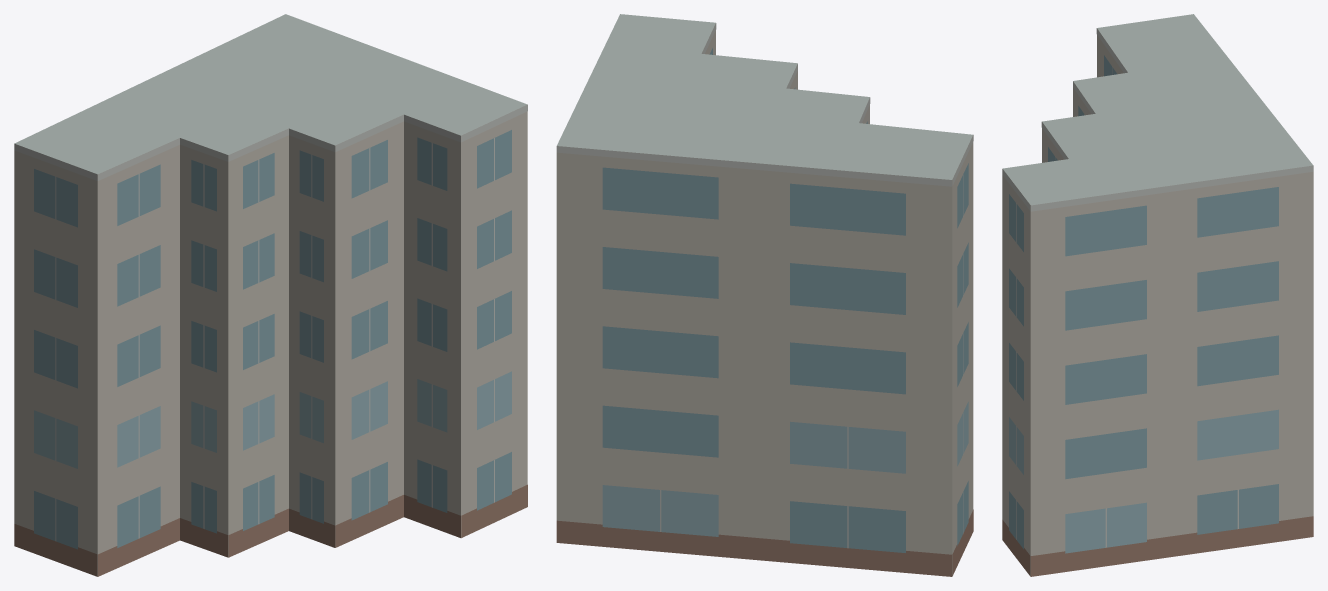
Rendered from survey-upis-32812364.glb.
3 renders of one model, left to right at view 1: azimuth 30°, elevation 25°; view 2: azimuth 150°, elevation 25°; view 3: azimuth 270°, elevation 25°, orthographic. The views are drawn at different scales.
Parts seen in each view (by area): view 1: survey-upis-32812364.tmp; view 2: survey-upis-32812364.tmp; view 3: survey-upis-32812364.tmp.
Part boxes in pixels (bbox=[...]): survey-upis-32812364.tmp: bbox=[14, 14, 527, 576]; survey-upis-32812364.tmp: bbox=[556, 14, 973, 576]; survey-upis-32812364.tmp: bbox=[1002, 14, 1313, 576].
Size of the model in its own units: 16.04 by 14.5 by 11.02.
